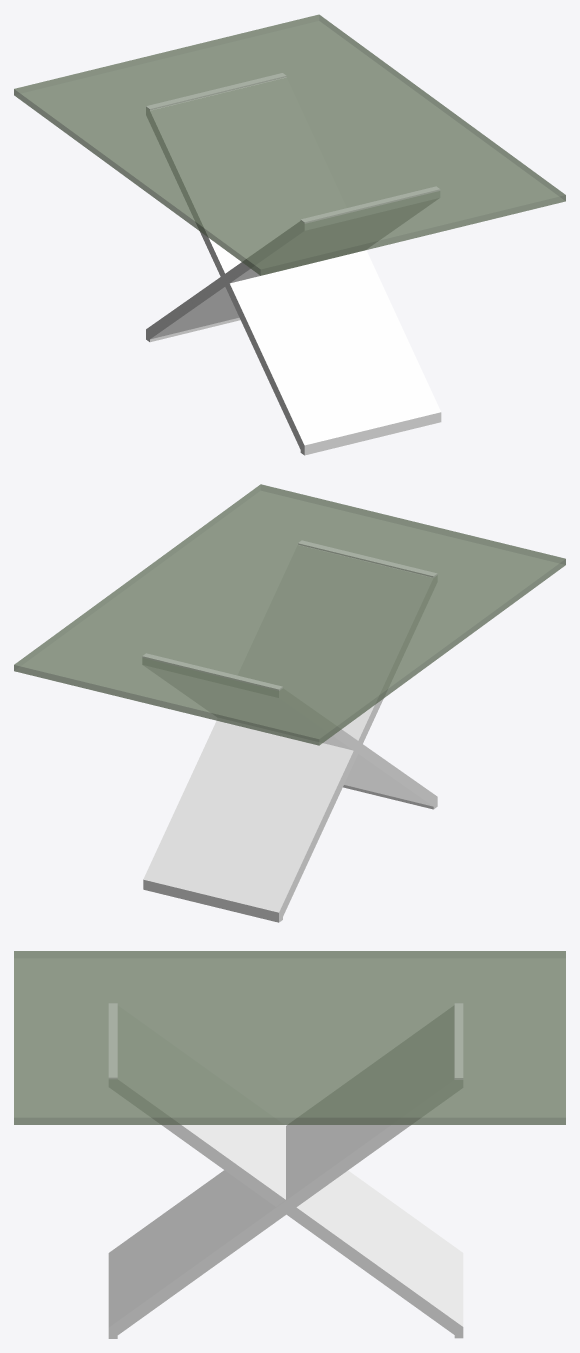
Rendered from tavolo.fbx.
3 views of the same model, one above another, from view 1: azimuth 30°, elevation 25°; view 2: azimuth 150°, elevation 25°; view 3: azimuth 270°, elevation 25° (orthographic). The views are drawn at different scales.
Parts seen in each view (by area): view 1: tampo_001, pes_001; view 2: tampo_001, pes_001; view 3: tampo_001, pes_001.
Boxes of the visible parts, bbox=[...] form: tampo_001: bbox=[14, 14, 565, 275]; pes_001: bbox=[146, 73, 441, 455]; tampo_001: bbox=[14, 484, 565, 745]; pes_001: bbox=[142, 540, 437, 922]; tampo_001: bbox=[14, 951, 565, 1124]; pes_001: bbox=[108, 1003, 463, 1338].
Bounding box in the file's own units: 1 × 0.745 × 1.4.
